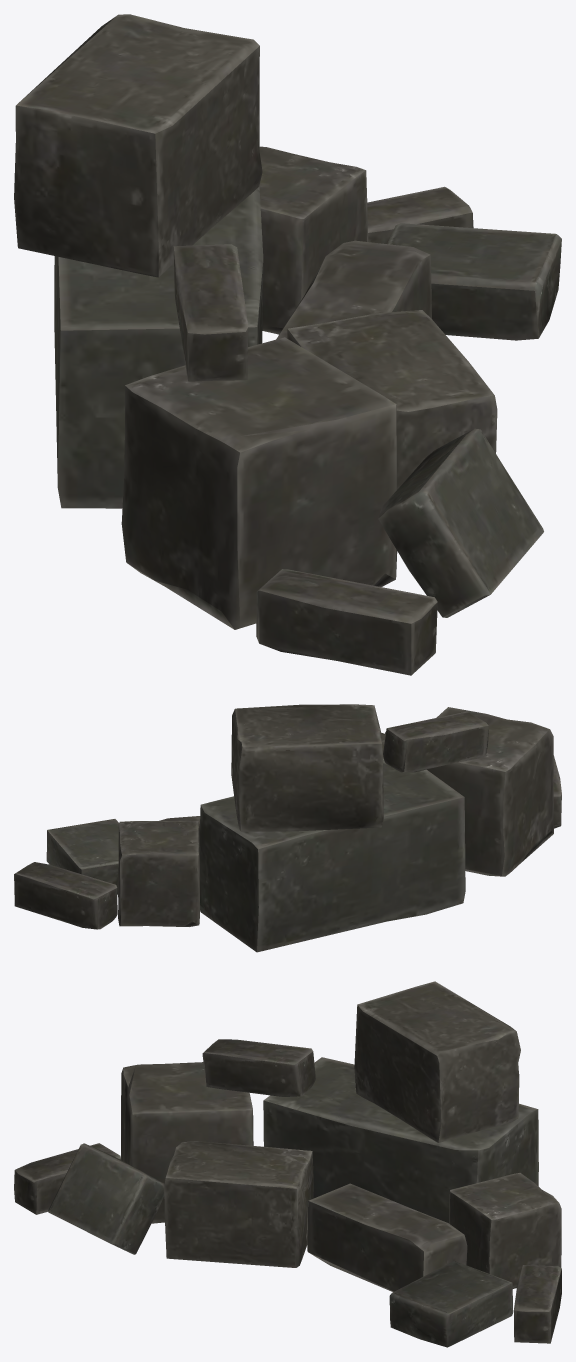
The picture shows the model from 3 angles, top to bottom: view 1: azimuth 30°, elevation 25°; view 2: azimuth 150°, elevation 25°; view 3: azimuth 270°, elevation 25°; orthographic projection. The views are drawn at different scales.
Visible parts, largest first — view 1: SM_DR_Nexus_Rubble_01_LOD0; view 2: SM_DR_Nexus_Rubble_01_LOD0; view 3: SM_DR_Nexus_Rubble_01_LOD0.
Boxes of the visible parts, <box> form: SM_DR_Nexus_Rubble_01_LOD0: <box>14,14,561,675</box>; SM_DR_Nexus_Rubble_01_LOD0: <box>14,704,561,952</box>; SM_DR_Nexus_Rubble_01_LOD0: <box>14,981,561,1347</box>.
Size of the model in its own units: 3.94 by 2.12 by 5.01.
1 material, 1 textured.
